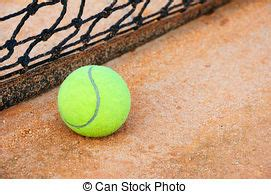tennis_ball: (56, 63, 131, 139)
